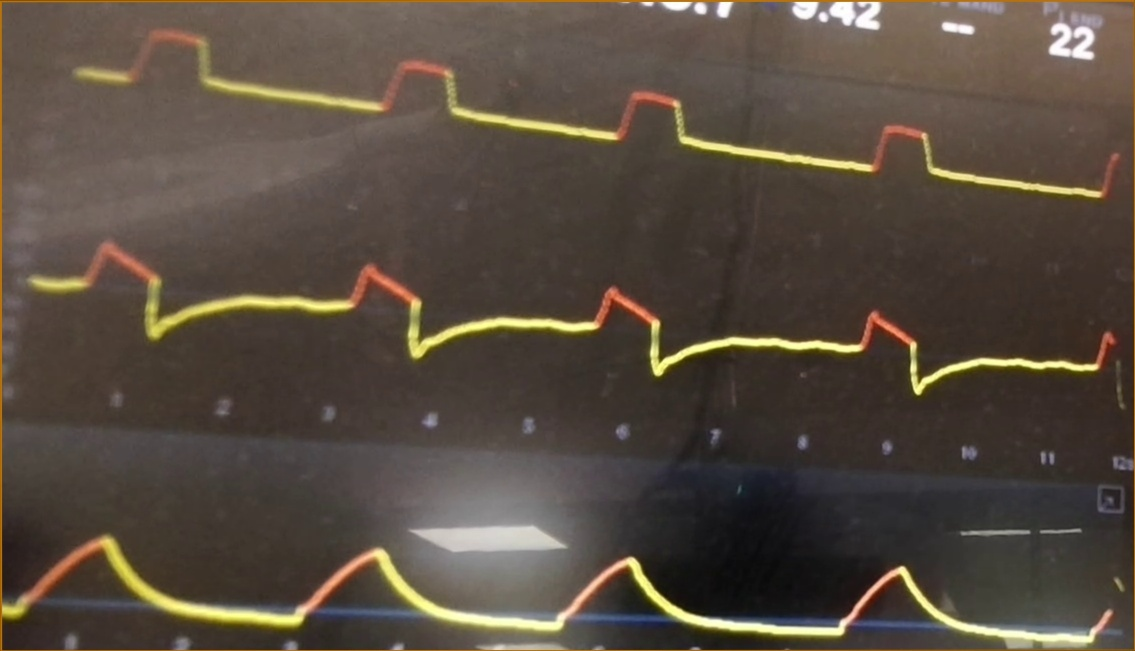Normal Flow: (32, 233, 1115, 399)
Normal Volume: (4, 496, 1112, 649)
